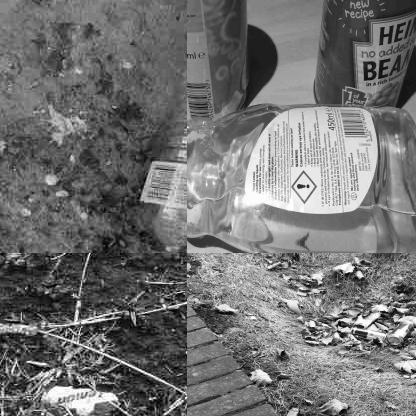metal: (312, 0, 415, 110), (187, 0, 252, 121), (348, 324, 387, 344), (392, 321, 414, 344)
plastic: (187, 104, 415, 252), (140, 58, 186, 252), (38, 381, 120, 415)
